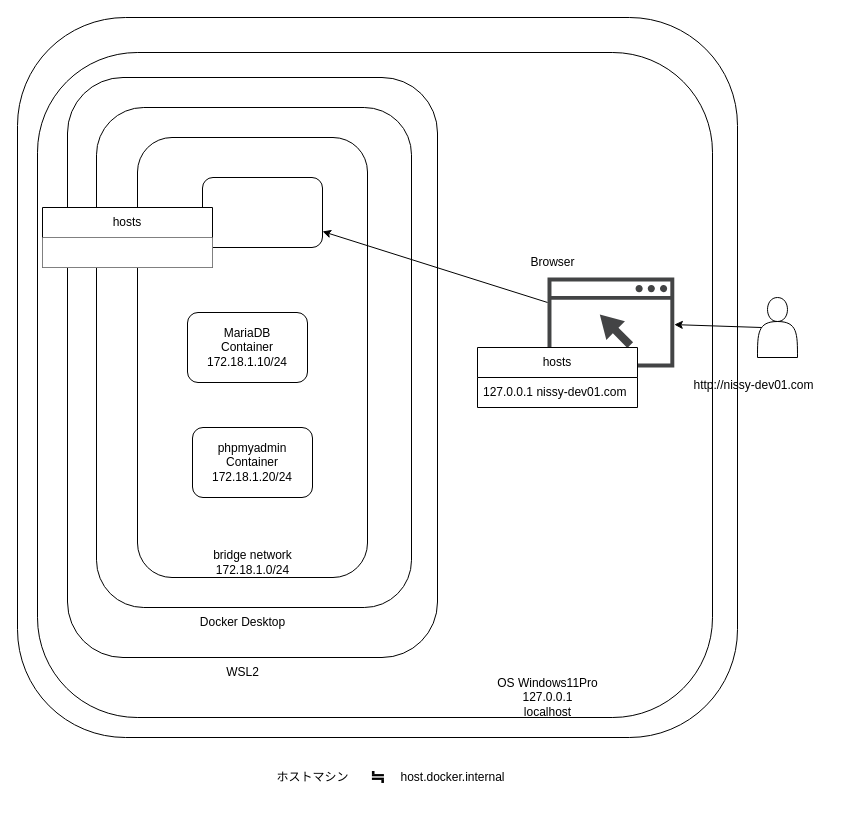
Some shapes in this 841 by 815 pixel diagram are drawn without their labels. Here are the shapes that lost their labels. From the top down, the centre of each, then its label:
the point at 262,212: WP Container 172.18.1.30/24
the point at 127,252: 172.18.1.30 nissy-dev01.com
